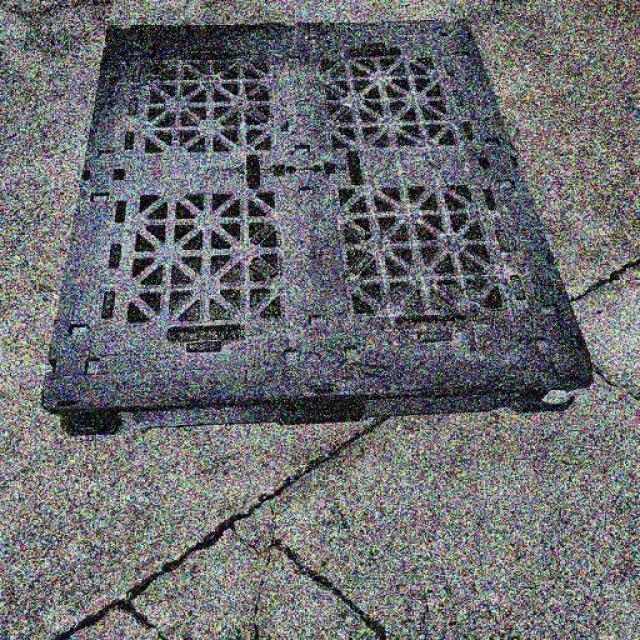igps: (37, 7, 595, 444)
